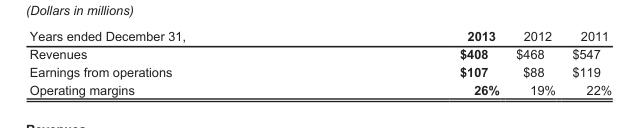table: (28, 28, 611, 96)
table column: (28, 28, 321, 96), (321, 28, 506, 96), (506, 28, 563, 96), (563, 28, 611, 96)
table column header: (28, 28, 611, 44)
table row: (28, 44, 611, 62), (28, 62, 611, 80), (28, 28, 611, 44), (28, 80, 611, 96)
